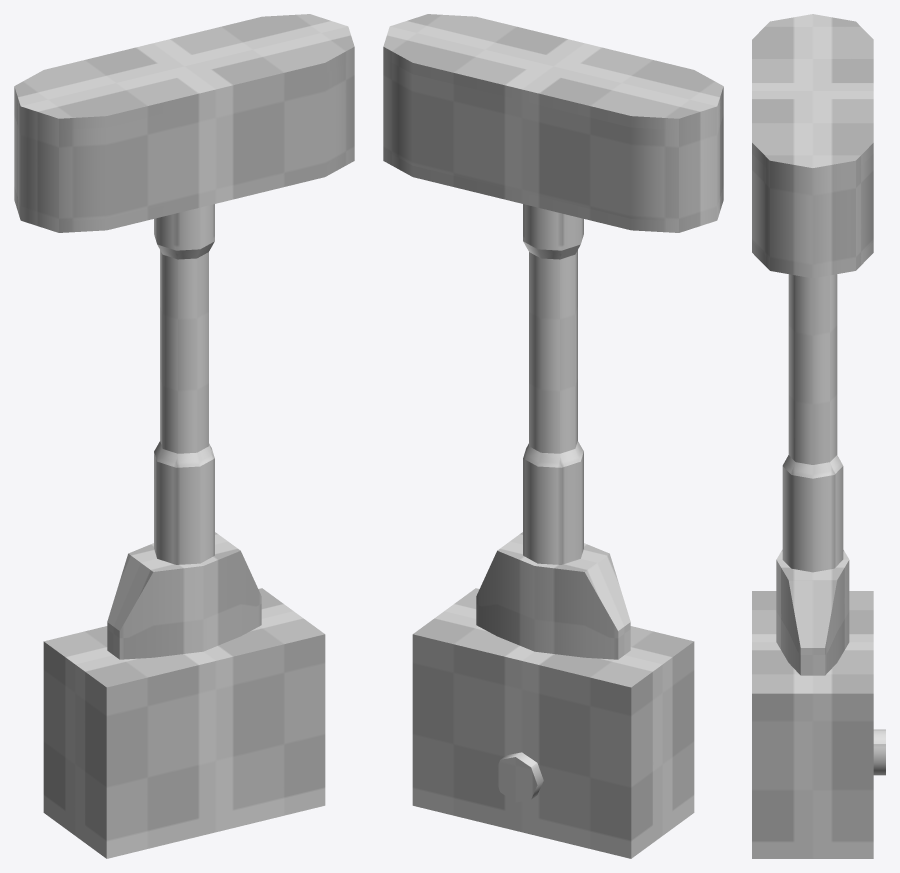
The model's file is LightWorkMedium.fbx.
3 renders of one model, left to right at view 1: azimuth 30°, elevation 25°; view 2: azimuth 150°, elevation 25°; view 3: azimuth 270°, elevation 25°, orthographic. The views are drawn at different scales.
Parts seen in each view (by area): view 1: LightWorkMedium; view 2: LightWorkMedium; view 3: LightWorkMedium.
Part boxes in pixels (<box>): LightWorkMedium: <box>14,14,354,858</box>; LightWorkMedium: <box>383,14,723,858</box>; LightWorkMedium: <box>752,14,885,858</box>.
Size of the model in its own units: 60 by 130 by 22.
